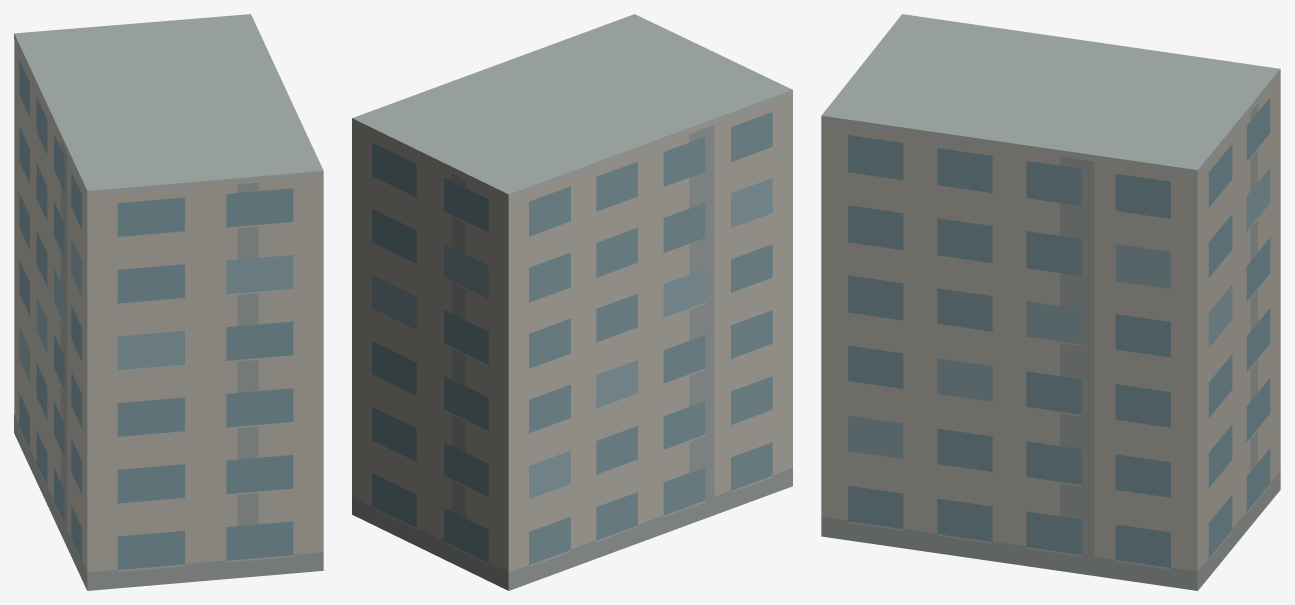
File: survey-upis-32891793.glb
The picture shows the model from 3 angles, left to right: view 1: azimuth 30°, elevation 25°; view 2: azimuth 150°, elevation 25°; view 3: azimuth 270°, elevation 25°; orthographic projection. The views are drawn at different scales.
Parts seen in each view (by area): view 1: survey-upis-32891793.tmp; view 2: survey-upis-32891793.tmp; view 3: survey-upis-32891793.tmp.
Part boxes in pixels (x1,y1,x2,y2): survey-upis-32891793.tmp: (14, 14, 323, 590); survey-upis-32891793.tmp: (352, 14, 792, 590); survey-upis-32891793.tmp: (821, 14, 1280, 590).
Size of the model in its own units: 12.42 by 15.6 by 15.44.
